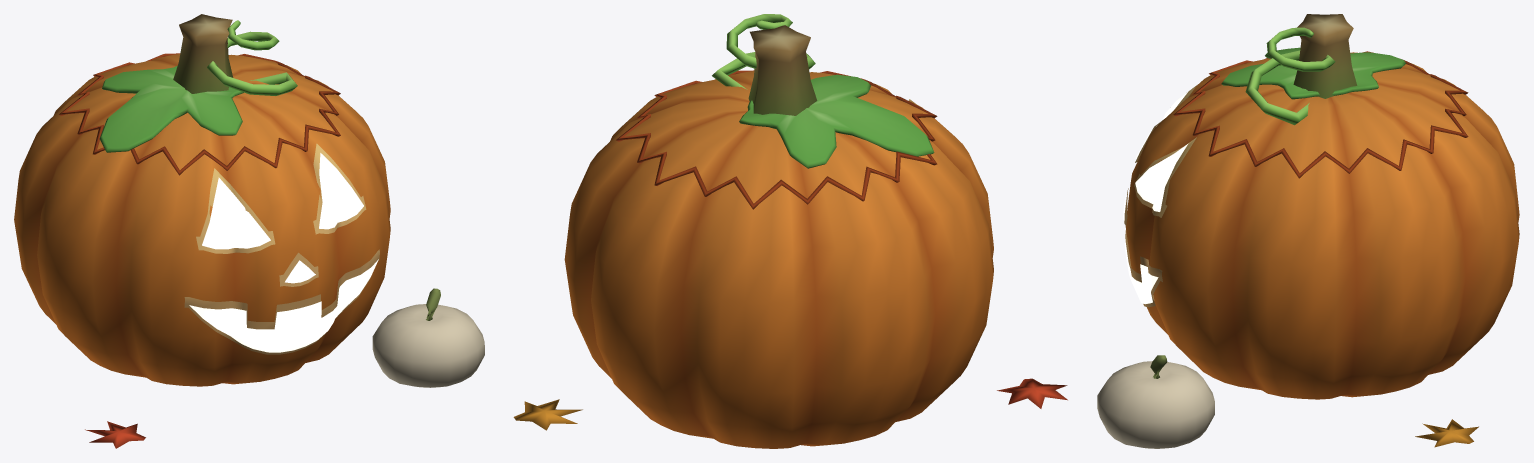
File: furn-pumpkinLamp.glb
The picture shows the model from 3 angles, left to right: view 1: azimuth 30°, elevation 25°; view 2: azimuth 150°, elevation 25°; view 3: azimuth 270°, elevation 25°; orthographic projection. The views are drawn at different scales.
Visible parts, largest first — view 1: furn-pumpkinLamp; view 2: furn-pumpkinLamp; view 3: furn-pumpkinLamp.
Boxes of the visible parts, x1,y1,x2,y2 form: furn-pumpkinLamp: (14, 14, 484, 448); furn-pumpkinLamp: (513, 14, 1067, 448); furn-pumpkinLamp: (1097, 14, 1519, 448).
Size of the model in its own units: 0.4594 by 0.3864 by 0.428.
